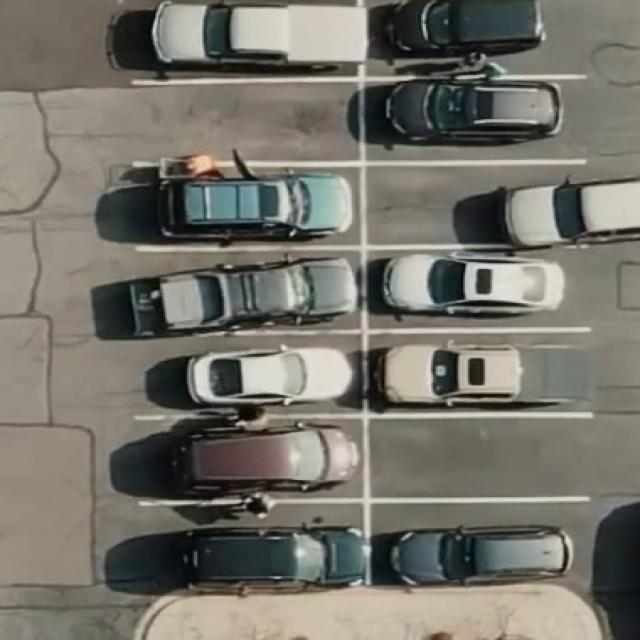empty: (374, 421, 585, 491), (136, 90, 349, 153)
notEmpty: (143, 512, 358, 585), (374, 169, 586, 242), (375, 1, 585, 73), (372, 85, 586, 155), (139, 255, 356, 324), (140, 425, 360, 493), (376, 256, 591, 325), (378, 511, 584, 583), (143, 342, 354, 411), (375, 339, 592, 406), (140, 5, 350, 74), (138, 175, 353, 238)
